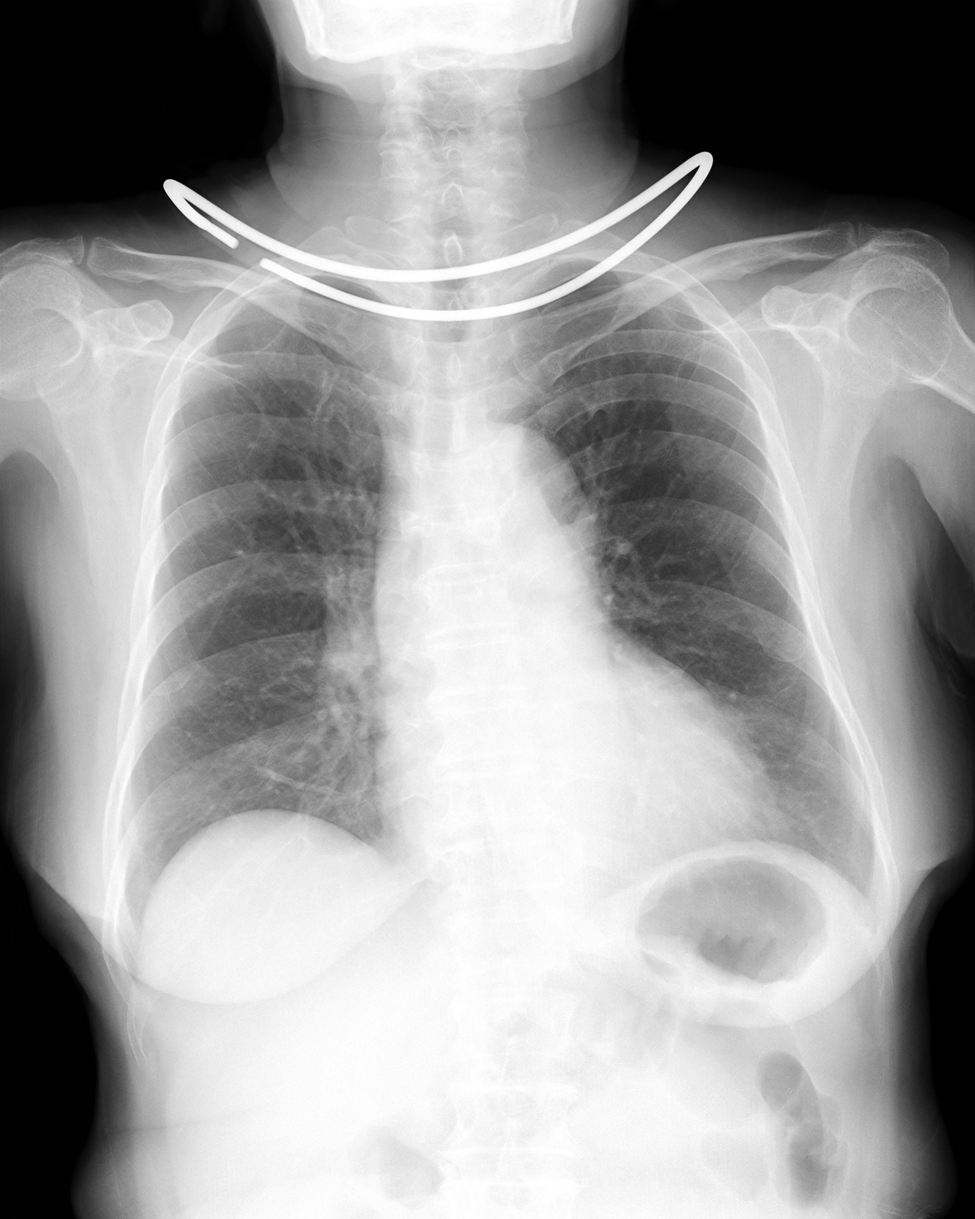Aortic enlargement: (455, 419, 603, 604)
Cardiomegaly: (374, 731, 782, 896)
